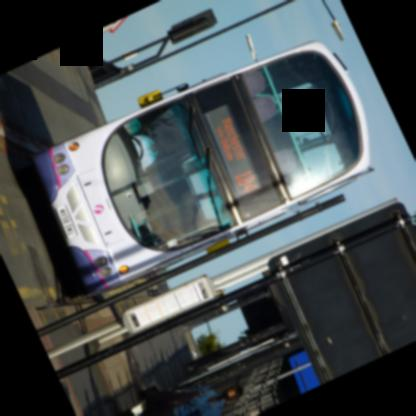backpack: (149, 386, 213, 407)
handbag: (144, 387, 211, 412)
